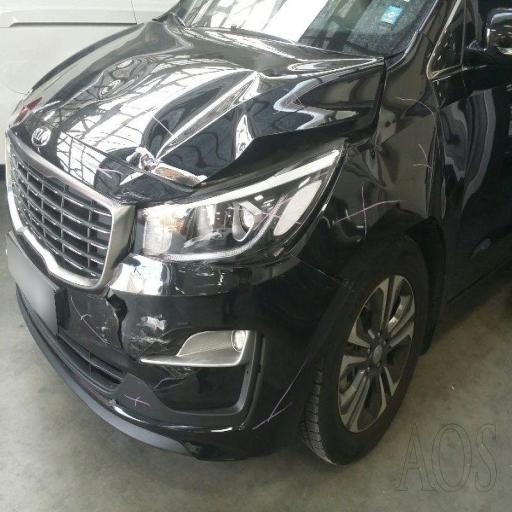dent: (95, 60, 327, 177)
scratch: (131, 301, 200, 397)
